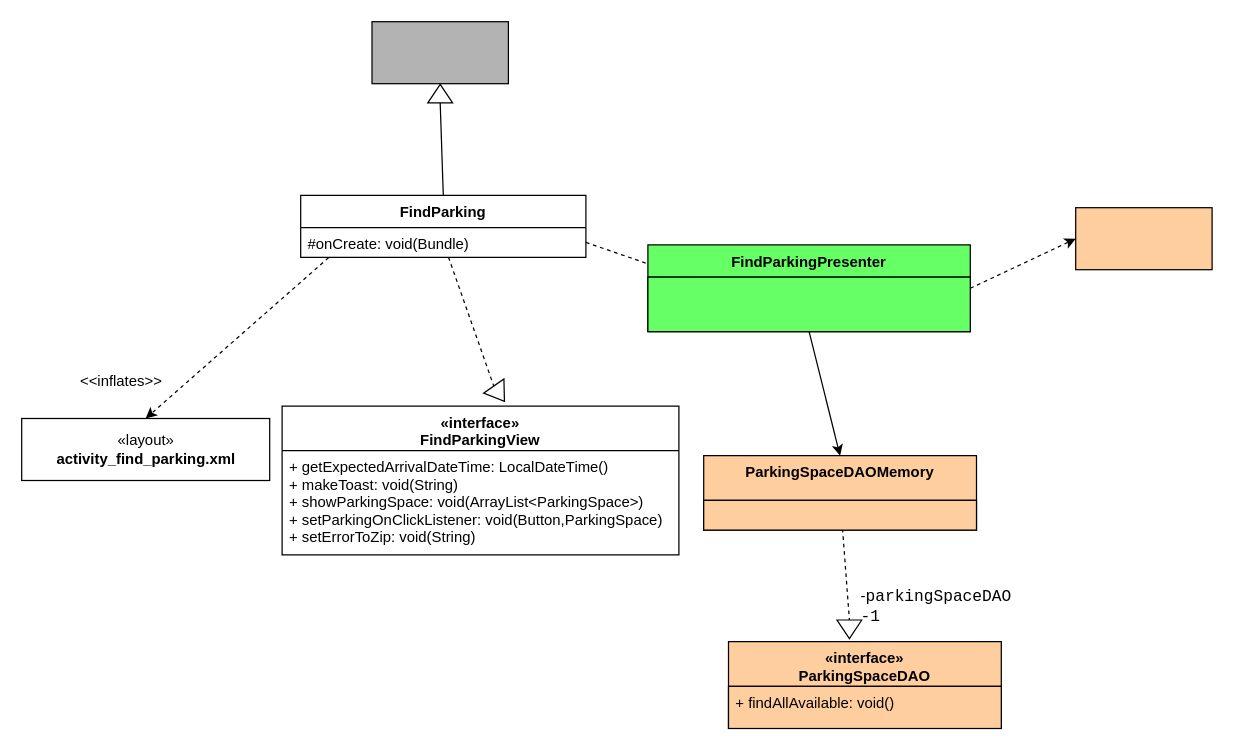
This 1234x754 diagram has some shape labels left out. The shapes that lost their labels are listed below. From the top down, each one's centre as x and y in pixels, then its label:
At (x=439, y=52): "AppCompatActivity".
At (x=1143, y=238): "ParkingRequest".
At (x=808, y=304): "+ find: void() + validateZip:boolean()".
